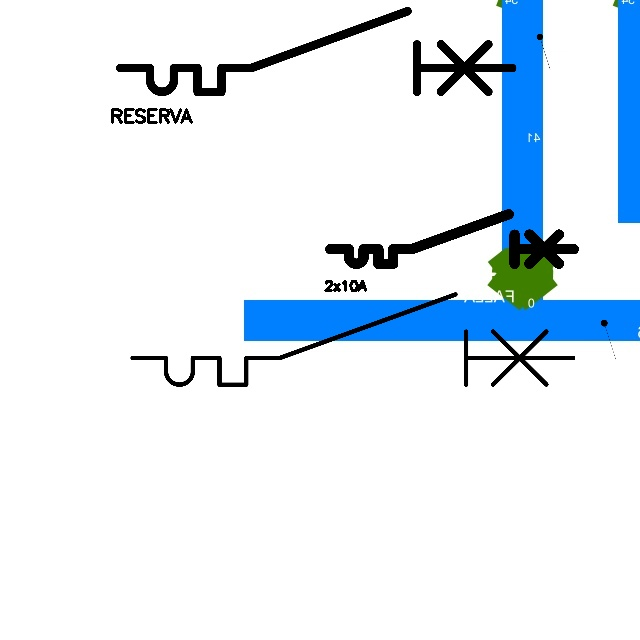interruptor_termomagnetico: (121, 283, 584, 396), (110, 1, 522, 102), (324, 208, 580, 270)
